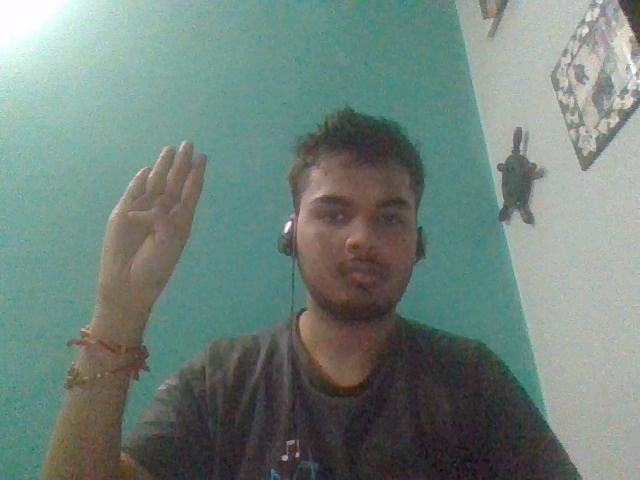hello: (94, 140, 211, 288)
